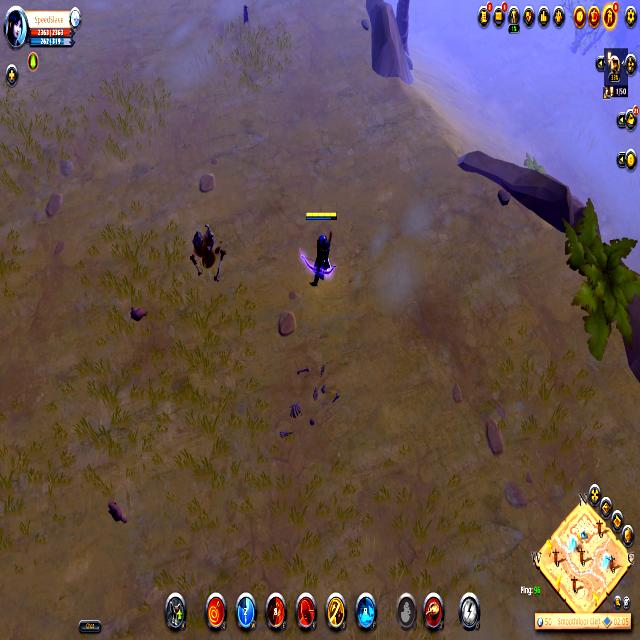red: (297, 206, 341, 294)
